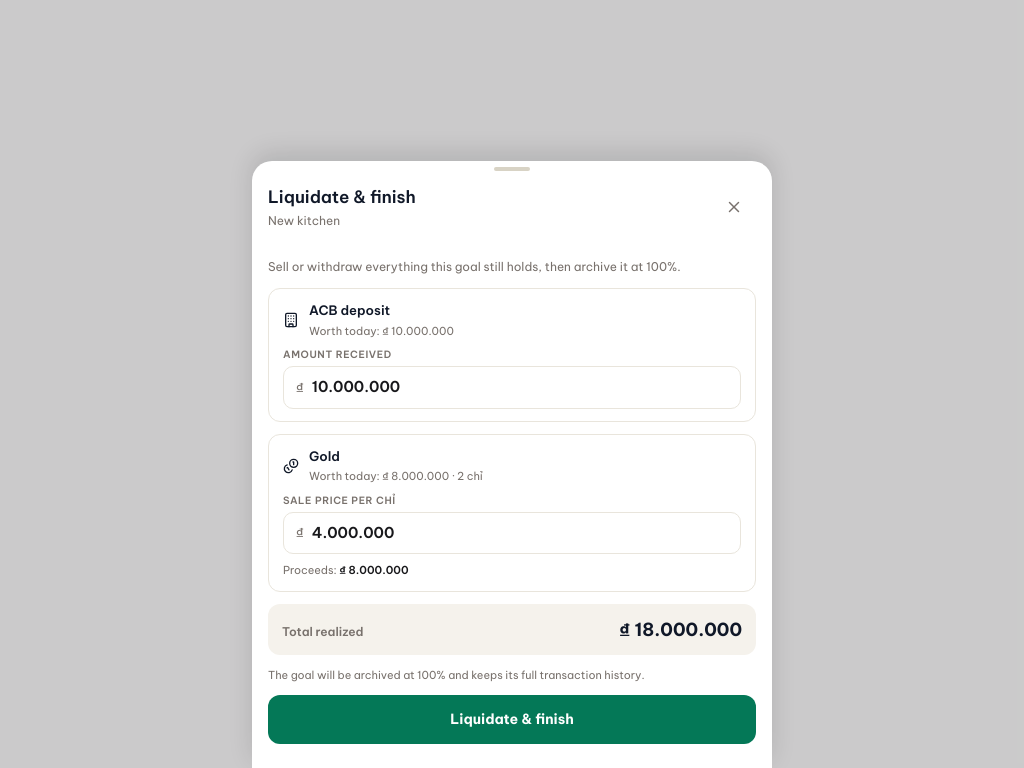
Test: FinishGoalSheet › shows the realized total the server reports on success
Step 1. Click the button with test id "finish-goal-confirm" → (512, 720), box x1=268 y1=695 x2=756 y2=744
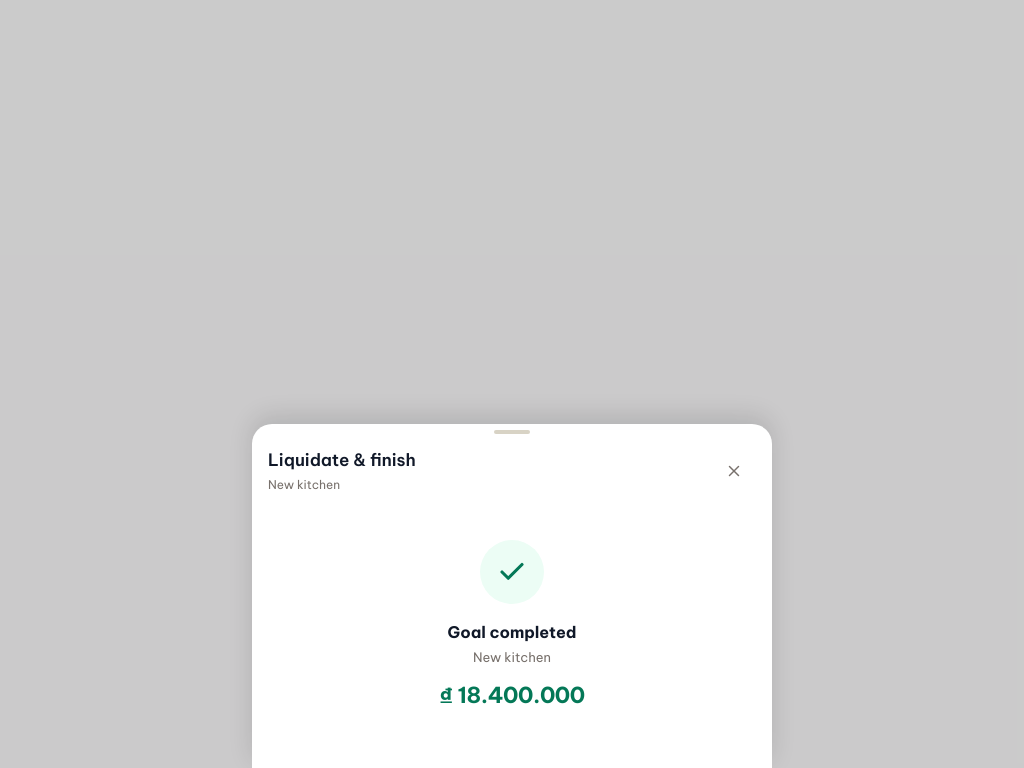
Expected: the element with test id "finish-goal-success" is shown, x1=439 y1=540 x2=585 y2=709
Expected: the text "₫ 18.400.000" is shown, x1=439 y1=681 x2=585 y2=709
